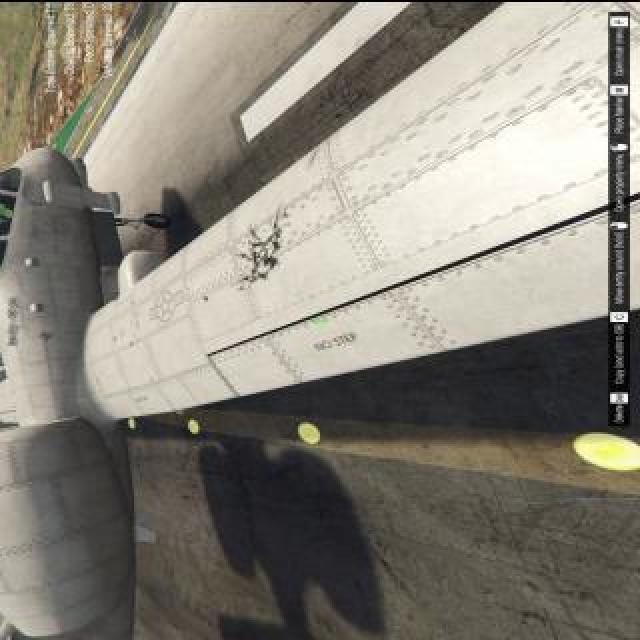crack: (200, 296, 212, 300)
dent: (262, 254, 278, 266), (272, 239, 281, 250)
